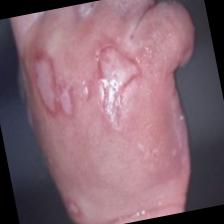extravasation-wound: (86, 29, 152, 134), (20, 39, 84, 139)
